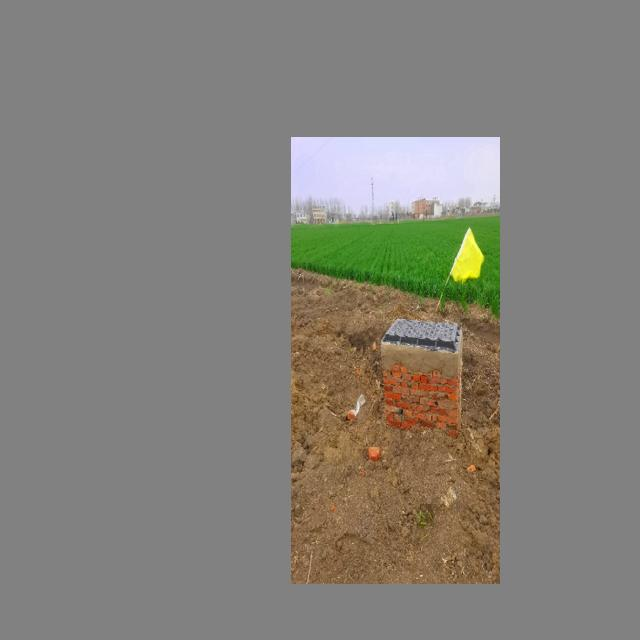good: (380, 313, 461, 348)
